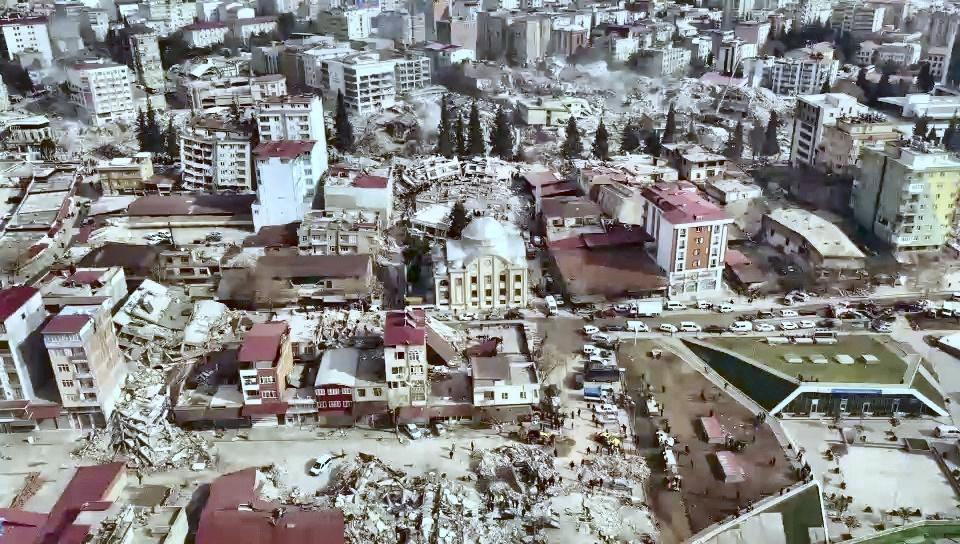kapali: (57, 441, 243, 486), (450, 435, 574, 481)
